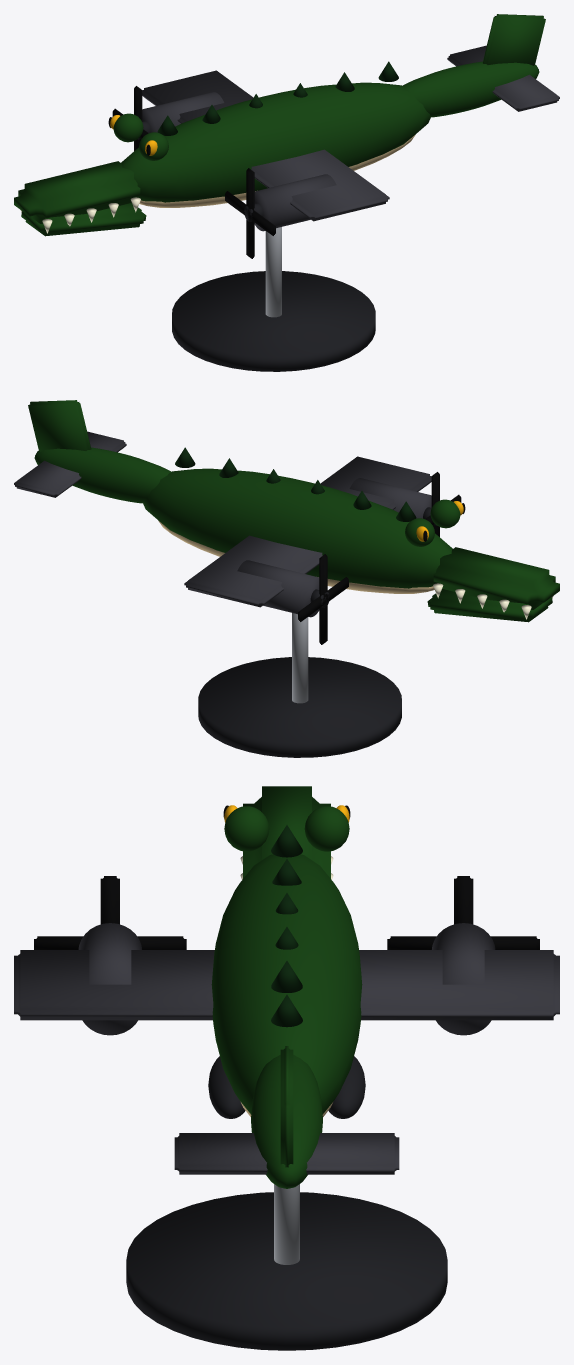
File: CrocBomber.fbx
3 views of the same model, one above another, from view 1: azimuth 30°, elevation 25°; view 2: azimuth 150°, elevation 25°; view 3: azimuth 270°, elevation 25° (orthographic). The views are drawn at different scales.
Visible parts, largest first — view 1: CrocBomber; view 2: CrocBomber; view 3: CrocBomber.
Part boxes in pixels (x1=…): CrocBomber: x1=14, y1=14, x2=559, y2=371; CrocBomber: x1=14, y1=400, x2=559, y2=757; CrocBomber: x1=14, y1=786, x2=559, y2=1350.
Size of the model in its own units: 5.92 by 2.81 by 3.4.
1 material, 1 textured.
